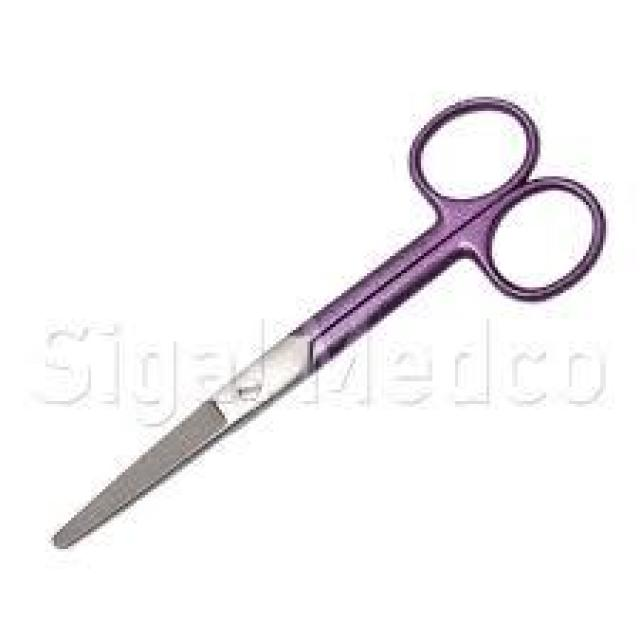B3: (37, 82, 631, 569)
